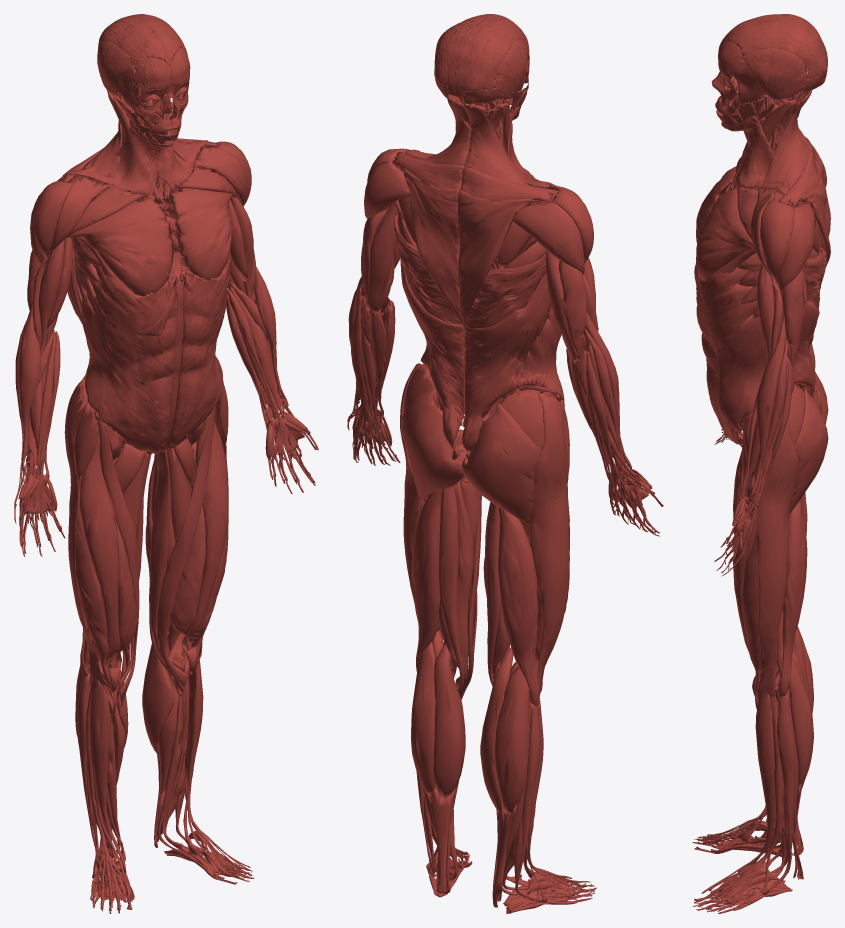
Rendered from muscular.glb.
3 renders of one model, left to right at view 1: azimuth 30°, elevation 25°; view 2: azimuth 150°, elevation 25°; view 3: azimuth 270°, elevation 25°, orthographic. The views are drawn at different scales.
Visible parts, largest first — view 1: FJ1452, FJ1452M, FJ1464, FJ1433, FJ1464M, FJ1433M, FJ1434M, R3_FMA46768, FJ1587, FJ1421M, FJ1423, FJ1442 (+46 smaller); view 2: R3_FMA13358, FJ1423, FJ1418, R3_FMA13359, FJ1395, R3_FMA46768, FJ1520M, FJ1520, FJ1418M, FJ1394, FJ1397M, FJ1395M (+35 smaller); view 3: FJ1452M, FJ1423M, R3_FMA46768, FJ1464M, FJ1395M, R3_FMA46764, FJ1418M, R3_FMA13359, FJ1558, FJ1439M, FJ1467M, FJ1521M (+36 smaller).
Part boxes in pixels (x1,y1,x2,y2): FJ1452: (81,265,177,453); FJ1452M: (164,252,231,450); FJ1464: (66,198,173,296); FJ1433: (79,424,121,693); FJ1464M: (171,189,233,279); FJ1433M: (182,412,228,674); FJ1434M: (157,405,216,695); R3_FMA46768: (97,14,185,67); FJ1587: (69,120,169,195); FJ1421M: (149,448,185,671); FJ1423: (64,377,108,694); FJ1442: (75,474,112,691); R3_FMA13358: (462,253,551,427); FJ1423: (529,393,569,698); FJ1418: (462,402,541,525); R3_FMA13359: (394,214,464,426); FJ1395: (498,507,539,705); R3_FMA46768: (434,14,524,98); FJ1520M: (402,168,464,327); FJ1520: (457,190,541,326); FJ1418M: (401,387,463,501); FJ1394: (494,666,530,813); FJ1397M: (433,644,465,798); FJ1395M: (412,490,442,671); FJ1452M: (696,267,767,444); FJ1423M: (756,421,799,704); R3_FMA46768: (721,14,827,79); FJ1464M: (696,186,754,279); FJ1395M: (777,499,807,697); R3_FMA46764: (742,47,808,99); FJ1418M: (789,387,828,514); R3_FMA13359: (774,246,827,396); FJ1558: (721,115,789,194); FJ1439M: (738,692,775,875); FJ1467M: (760,199,794,283); FJ1521M: (763,90,812,188).
Bounding box in the file's own units: 0.6388 × 1.71 × 0.251.
